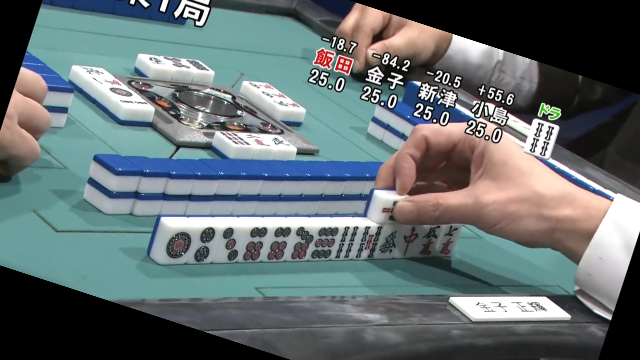Tehai: (145, 204, 466, 269)
